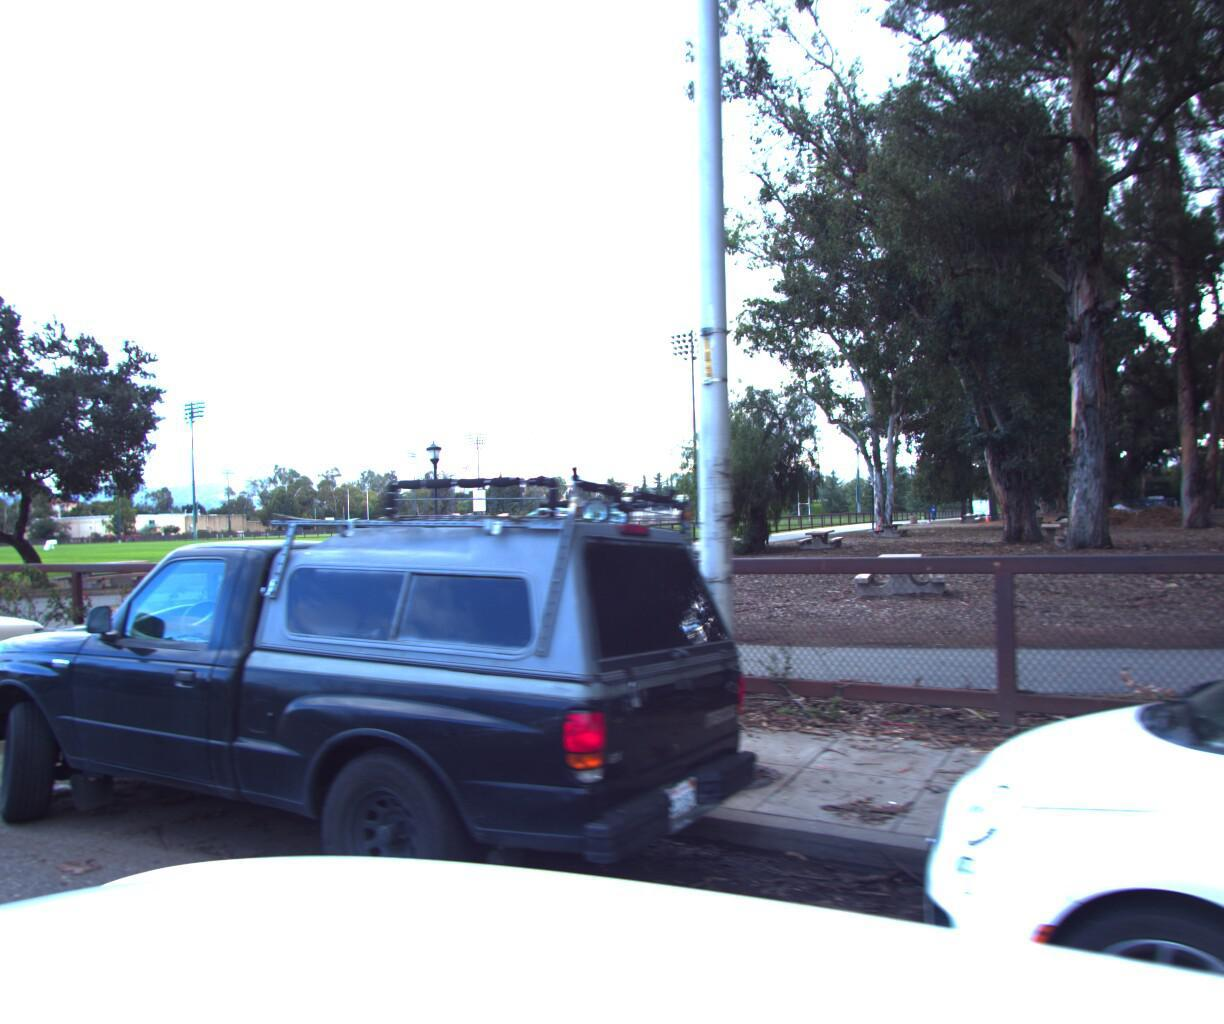car: (0, 445, 769, 1021), (848, 355, 1224, 1024), (0, 550, 56, 783)
